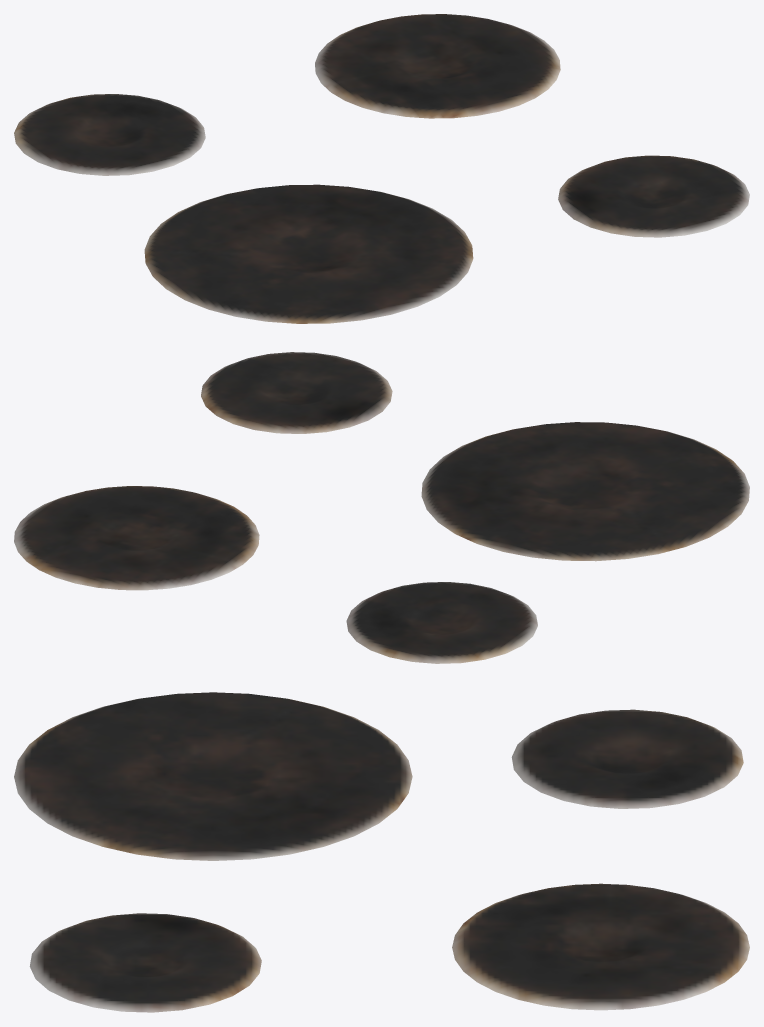
The model's file is Plates.glb.
3 renders of one model, top to bottom at view 1: azimuth 30°, elevation 25°; view 2: azimuth 150°, elevation 25°; view 3: azimuth 270°, elevation 25°, orthographic. The views are drawn at different scales.
Parts seen in each view (by area): view 1: plate.003, plate.001, plate.002, plate; view 2: plate.003, plate.001, plate.002, plate; view 3: plate.003, plate.001, plate.002, plate.
Boxes of the visible parts, left/top/right/bottom form: plate.003: left=144, top=184, right=473, bottom=323; plate.001: left=315, top=14, right=560, bottom=118; plate.002: left=558, top=155, right=749, bottom=237; plate: left=14, top=94, right=205, bottom=175; plate.003: left=421, top=422, right=749, bottom=561; plate.001: left=14, top=486, right=259, bottom=590; plate.002: left=201, top=352, right=392, bottom=433; plate: left=346, top=582, right=537, bottom=663; plate.003: left=14, top=692, right=412, bottom=860; plate.001: left=452, top=883, right=749, bottom=1010; plate.002: left=29, top=913, right=261, bottom=1012; plate: left=511, top=709, right=743, bottom=808.
Size of the model in its own units: 0.3572 by 0.00281 by 0.3467.
Materials: 1 (1 with a texture image).
